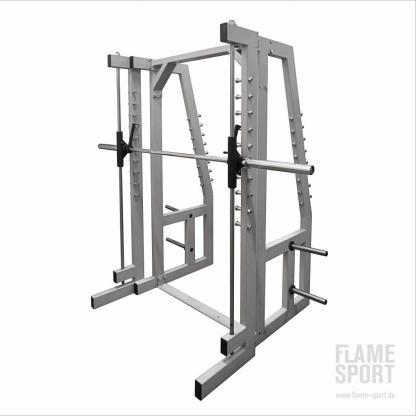smith machine: (90, 19, 329, 402)
